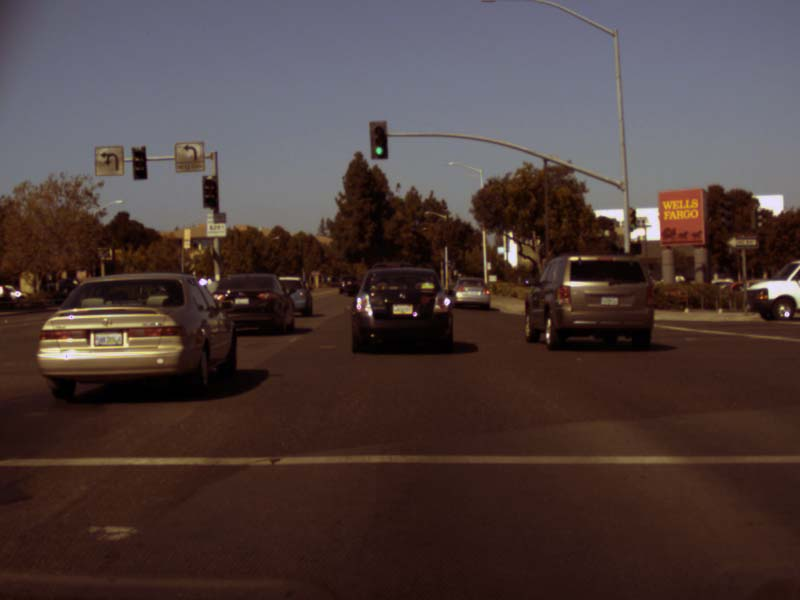Green: (372, 126, 386, 158), (628, 208, 636, 230)
